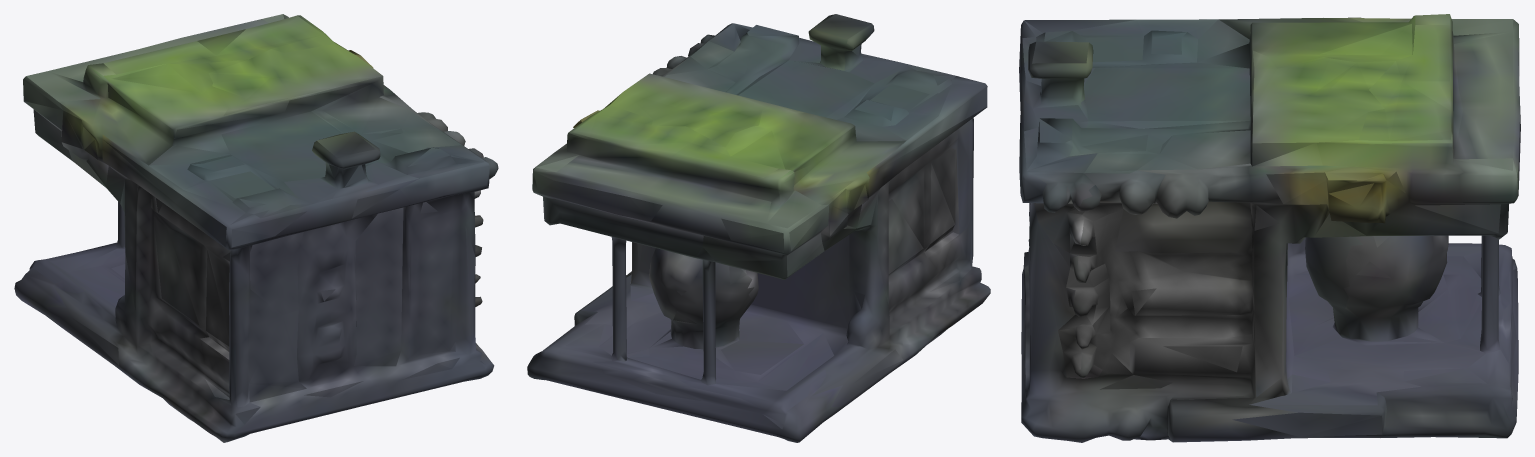
3 views of the same model, side by side, from view 1: azimuth 30°, elevation 25°; view 2: azimuth 150°, elevation 25°; view 3: azimuth 270°, elevation 25° (orthographic). The views are drawn at different scales.
Visible parts, largest first — view 1: 看着像垃圾站; view 2: 看着像垃圾站; view 3: 看着像垃圾站.
Part boxes in pixels (x1,y1,x2,y2): 看着像垃圾站: [14, 14, 498, 442]; 看着像垃圾站: [527, 14, 990, 442]; 看着像垃圾站: [1019, 14, 1520, 442].
Bounding box in the file's own units: 10.57 × 9.07 × 12.99.
